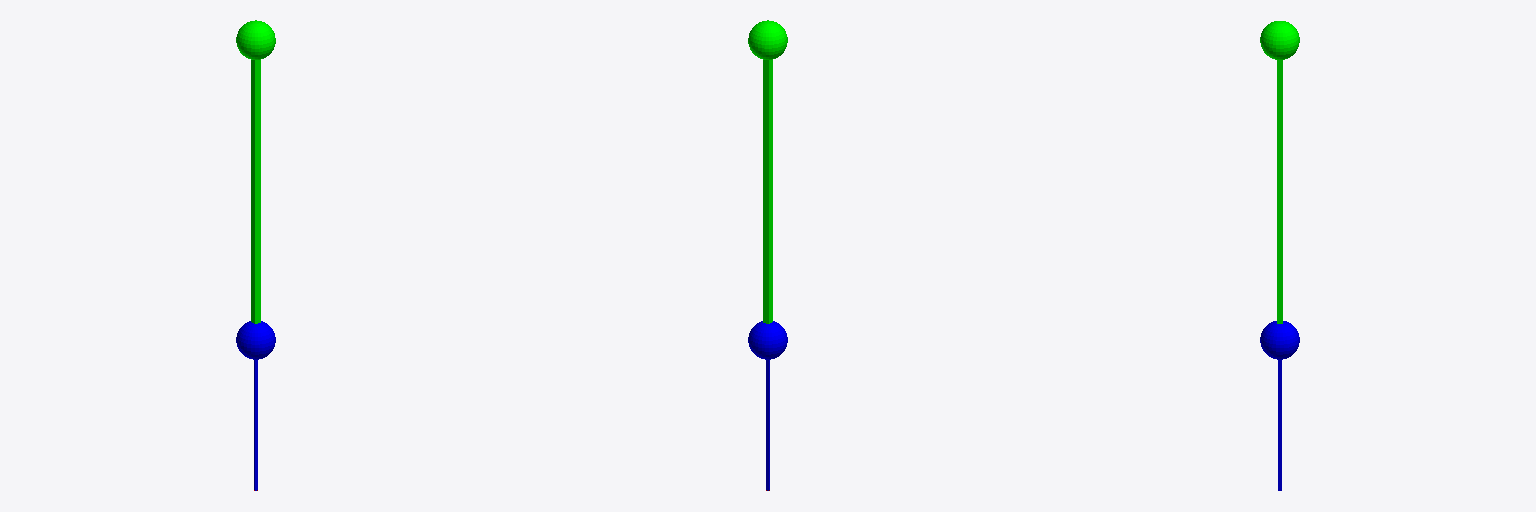
robot.urdf — pendulum:
<?xml version="1.0" ?>
<robot name="pendulum">
    <link name="world">
        <visual>
            <origin xyz="0 0 0" rpy="0 0 0" />
            <geometry>
                <sphere radius="0.005"/>
            </geometry>
            <material name="">
                <color rgba="1.0 0.0 0.0 1.0"/>
            </material>
        </visual>
        <inertial>
            <origin xyz="0.0 0.0 0.0" rpy="0.0 0.0 0.0"/>
            <mass value="1000.0"/>
            <inertia ixx="0.0" ixy="0.0" ixz="0.0" iyy="0.0" iyz="0.0" izz="0.0"/>
        </inertial>
    </link>

    <joint name="PendulumJoint" type="revolute">
      <origin xyz="0.0 0.0 0.0" rpy="0 0 0"/>
      <axis xyz="0 1 0"/>
      <parent link="world"/>
      <child link="PendulumArm"/>
      <limit effort="1000" velocity="100" lower="-100" upper="100"/>
    </joint>

    <link name="PendulumArm">
        <visual>
            <origin xyz="0 0 0.25" rpy="0 0 0" />
            <geometry>
                <box size="0.01 0.01 0.5"/>
            </geometry>
            <material name="">
                <color rgba="0.0 0.0 1.0 1.0"/>
            </material>
        </visual>
        <inertial>
            <origin xyz="0.0 0.0 0.0" rpy="0.0 0.0 0.0"/>
            <mass value="0.0"/>
            <inertia ixx="0.0" ixy="0.0" ixz="0.0" iyy="0.0" iyz="0.0" izz="0.0"/>
        </inertial>
    </link>

    <joint name="PendulumMassJoint" type="fixed">
      <origin xyz="0.0 0.0 0.5" rpy="0 0 0"/>
      <parent link="PendulumArm"/>
      <child link="PendulumMass"/>
    </joint>
    <link name="PendulumMass">
        <visual>
            <origin xyz="0 0 0" rpy="0 0 0" />
            <geometry>
                <sphere radius="0.06"/>
            </geometry>
            <material name="">
                <color rgba="0.0 0.0 1.0 1.0"/>
            </material>
        </visual>
        <inertial>
            <origin xyz="0 0.0 0.0" rpy="0.0 0.0 0.0"/>
            <mass value="3.0"/>
            <inertia ixx="0.0" ixy="0.0" ixz="0.0" iyy="0.0" iyz="0.0" izz="0.0"/>
        </inertial>
    </link>

    <joint name="SecondPendulumJoint" type="revolute">
      <origin xyz="0.0 0.0 0.0" rpy="0 0 0"/>
      <axis xyz="0 1 0"/>
      <parent link="PendulumMass"/>
      <child link="SecondPendulumArm"/>
      <limit effort="1000" velocity="100" lower="-100" upper="100"/>
    </joint>

    <link name="SecondPendulumArm">
        <visual>
            <origin xyz="0 0 0.5" rpy="0 0 0" />
            <geometry>
                <box size="0.02 0.02 1.0"/>
            </geometry>
            <material name="">
                <color rgba="0.0 1.0 0.0 1.0"/>
            </material>
        </visual>
        <inertial>
            <origin xyz="0.0 0.0 0.0" rpy="0.0 0.0 0.0"/>
            <mass value="0.0"/>
            <inertia ixx="0.0" ixy="0.0" ixz="0.0" iyy="0.0" iyz="0.0" izz="0.0"/>
        </inertial>
    </link>

    <joint name="SecondPendulumMassJoint" type="fixed">
      <origin xyz="0.0 0.0 1.0" rpy="0 0 0"/>
      <parent link="SecondPendulumArm"/>
      <child link="SecondPendulumMass"/>
    </joint>
    <link name="SecondPendulumMass">
        <visual>
            <origin xyz="0 0 0" rpy="0 0 0" />
            <geometry>
                <sphere radius="0.06"/>
            </geometry>
            <material name="">
                <color rgba="0.0 1.0 0.0 1.0"/>
            </material>
        </visual>
        <inertial>
            <origin xyz="0 0.0 0.0" rpy="0.0 0.0 0.0"/>
            <mass value="2.0"/>
            <inertia ixx="0.0" ixy="0.0" ixz="0.0" iyy="0.0" iyz="0.0" izz="0.0"/>
        </inertial>
    </link>
</robot>

--- Facts derived from the render (not from the file) ---
The picture shows the robot from 3 angles, left to right: view 1: azimuth 30°, elevation 25°; view 2: azimuth 150°, elevation 25°; view 3: azimuth 270°, elevation 25°; orthographic projection.
Robot: pendulum — 5 links, 4 joints (2 revolute, 2 fixed); root link world; default pose: every joint at zero.
Links seen in each view (by area): view 1: SecondPendulumArm, SecondPendulumMass, PendulumMass; view 2: SecondPendulumArm, SecondPendulumMass, PendulumMass; view 3: SecondPendulumArm, SecondPendulumMass, PendulumMass.
Link boxes in pixels (<box>): SecondPendulumArm: <box>251,60,260,323</box>; SecondPendulumMass: <box>236,20,275,59</box>; PendulumMass: <box>236,321,275,359</box>; SecondPendulumArm: <box>763,60,772,323</box>; SecondPendulumMass: <box>748,20,787,59</box>; PendulumMass: <box>748,321,787,359</box>; SecondPendulumArm: <box>1277,60,1282,323</box>; SecondPendulumMass: <box>1260,21,1299,59</box>; PendulumMass: <box>1260,321,1299,359</box>.
Size in the robot's own frame: 0.12 by 0.12 by 1.56 metres.
Geometry: primitives only (box / cylinder / sphere), no mesh files.
